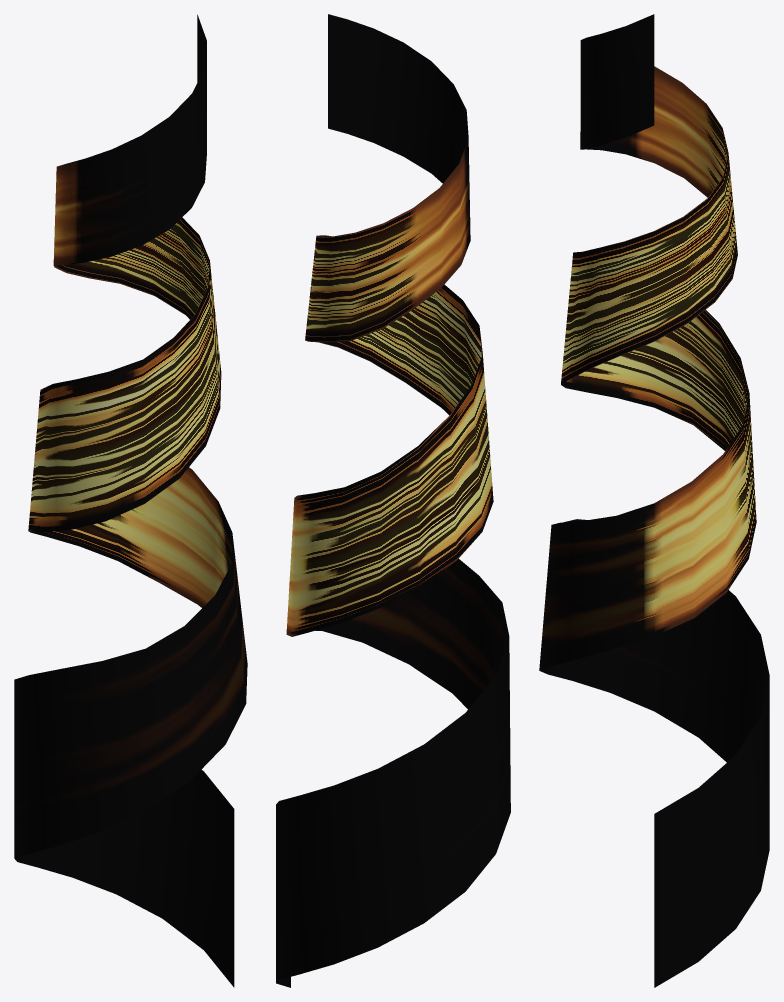
The model's file is Big_Spiral.fbx.
The picture shows the model from 3 angles, left to right: view 1: azimuth 30°, elevation 25°; view 2: azimuth 150°, elevation 25°; view 3: azimuth 270°, elevation 25°; orthographic projection. The views are drawn at different scales.
Parts seen in each view (by area): view 1: Big_Spiral; view 2: Big_Spiral; view 3: Big_Spiral.
Boxes of the visible parts, left/top/right/bottom form: Big_Spiral: left=14, top=14, right=247, bottom=987; Big_Spiral: left=276, top=14, right=510, bottom=987; Big_Spiral: left=539, top=14, right=769, bottom=987.
Size of the model in its own units: 84.02 by 385 by 84.02.
